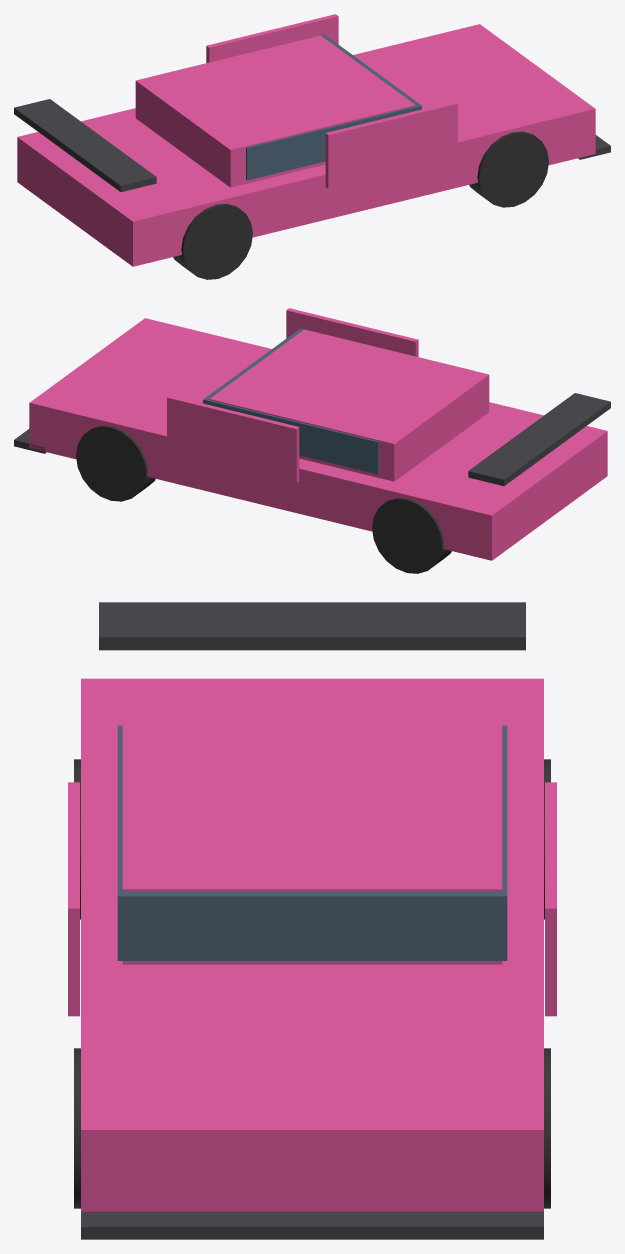
File: sports.glb
The picture shows the model from 3 angles, top to bottom: view 1: azimuth 30°, elevation 25°; view 2: azimuth 150°, elevation 25°; view 3: azimuth 270°, elevation 25°; orthographic projection. The views are drawn at different scales.
Visible parts, largest first — view 1: body, cabin, door_L, spoiler, wheel_0, wheel_2, glass, door_R; view 2: body, cabin, door_R, spoiler, wheel_1, wheel_3, glass, door_L; view 3: body, cabin, glass, spoiler, splitter, door_L, door_R, wheel_0, wheel_1.
Part boxes in pixels (left/top/right/bottom): body: left=17, top=24, right=595, bottom=266; cabin: left=135, top=35, right=415, bottom=187; door_L: left=325, top=101, right=457, bottom=188; spoiler: left=14, top=99, right=156, bottom=192; wheel_0: left=469, top=131, right=548, bottom=207; wheel_2: left=173, top=203, right=252, bottom=279; glass: left=246, top=34, right=421, bottom=180; door_R: left=206, top=14, right=338, bottom=62; body: left=29, top=318, right=607, bottom=560; cabin: left=209, top=329, right=489, bottom=481; door_R: left=167, top=395, right=299, bottom=482; spoiler: left=468, top=393, right=610, bottom=486; wheel_1: left=76, top=425, right=155, bottom=501; wheel_3: left=372, top=497, right=451, bottom=573; glass: left=203, top=328, right=378, bottom=474; door_L: left=286, top=308, right=418, bottom=356; body: left=81, top=678, right=543, bottom=1211; cabin: left=122, top=708, right=502, bottom=964; glass: left=117, top=725, right=507, bottom=960; spoiler: left=99, top=602, right=525, bottom=650; splitter: left=81, top=1211, right=543, bottom=1239; door_L: left=68, top=782, right=79, bottom=1016; door_R: left=545, top=782, right=556, bottom=1016; wheel_0: left=74, top=1048, right=80, bottom=1208; wheel_1: left=544, top=1048, right=550, bottom=1208.
Size of the model in its own units: 4.73 by 1.1 by 2.06.
